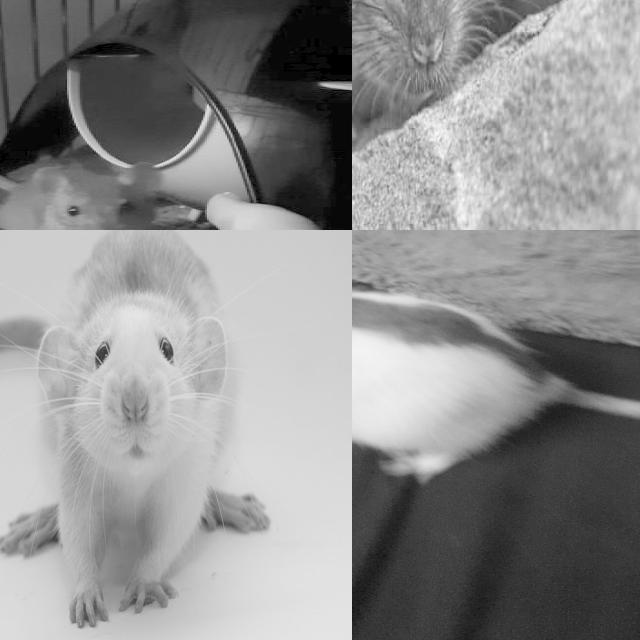rat: (33, 230, 231, 635), (352, 256, 567, 483), (352, 0, 515, 197), (0, 164, 171, 230)
